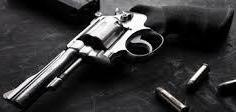gun: (1, 1, 236, 112)
